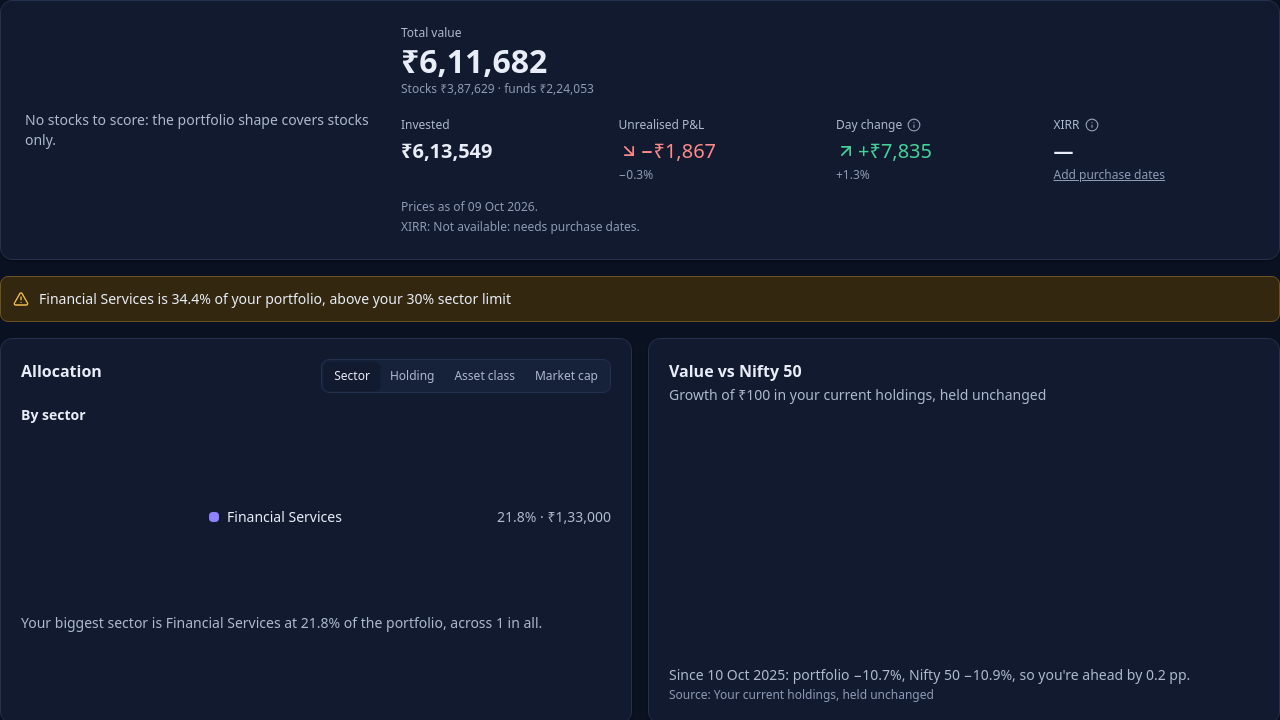
it: Portfolio summary › shows KPIs, warnings, allocation, beta and performance vs Nifty
Check: the text "₹6,11,682" is shown, box [401,39,547,82]
Check: the text "+1.3%" is shown, box [836,166,870,183]
Click the radio button labelled "Holding": click(412, 376) [380,362,444,390]
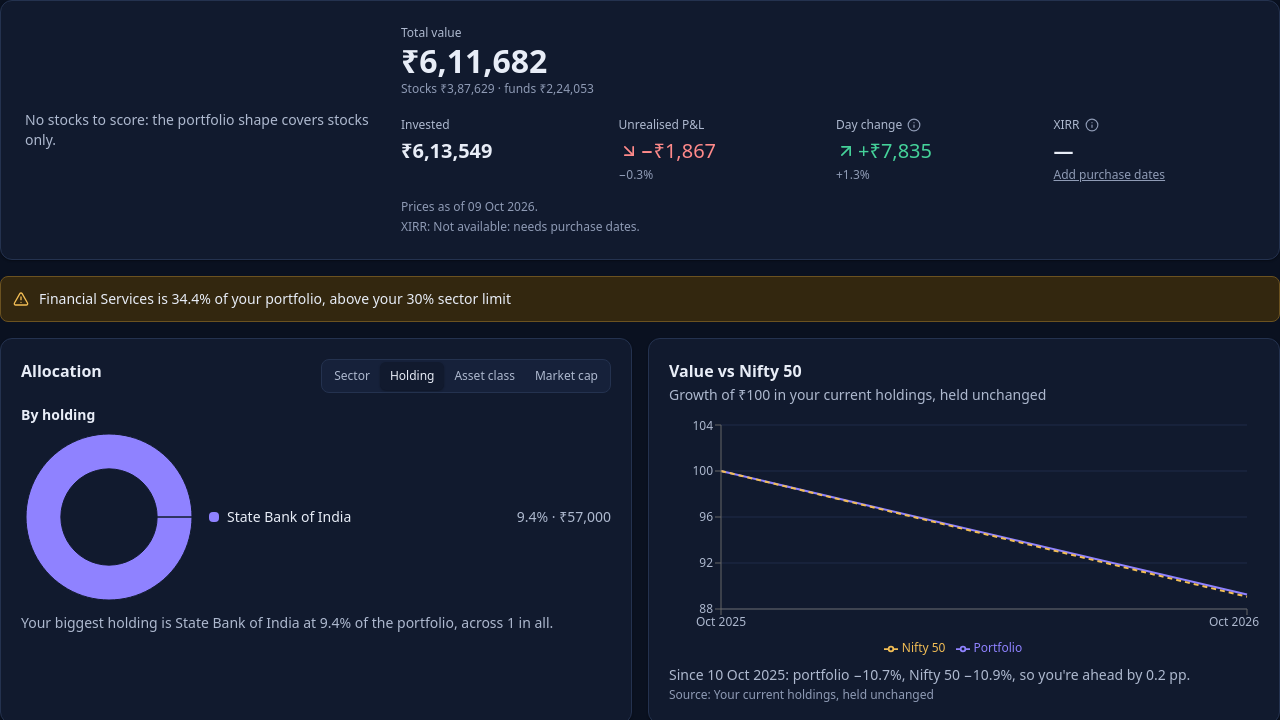
Check: the text "portfolio −10.7%, Nifty 50 −10.9%, so you're ahead by 0.2 pp" is shown, box [669,665,1190,684]
Check: the text "State Bank of India" is shown, box [227,507,351,527]
